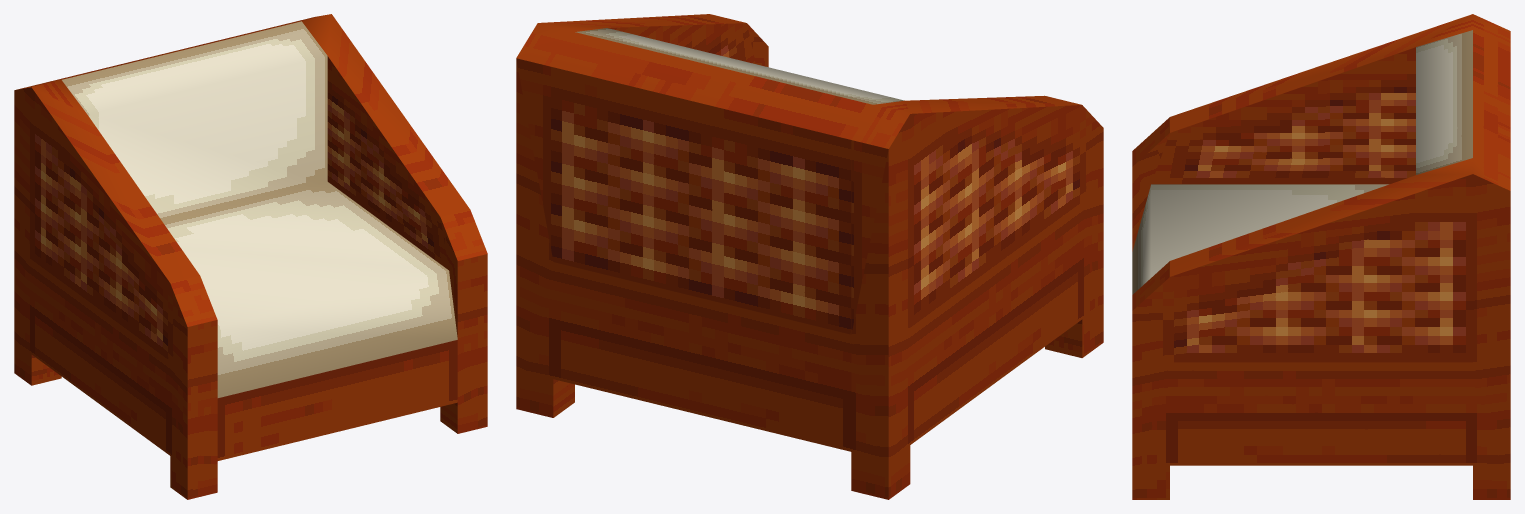
The model's file is Rattan Sofa.obj.
3 views of the same model, side by side, from view 1: azimuth 30°, elevation 25°; view 2: azimuth 150°, elevation 25°; view 3: azimuth 270°, elevation 25° (orthographic). The views are drawn at different scales.
Parts seen in each view (by area): view 1: polygon0; view 2: polygon0; view 3: polygon0.
Part boxes in pixels (box(x1,y1,x2,y2)): polygon0: box(14, 14, 487, 499); polygon0: box(516, 14, 1103, 499); polygon0: box(1132, 14, 1510, 499).
Bounding box in the file's own units: 2 × 1.9 × 2.
1 material, 1 textured.
